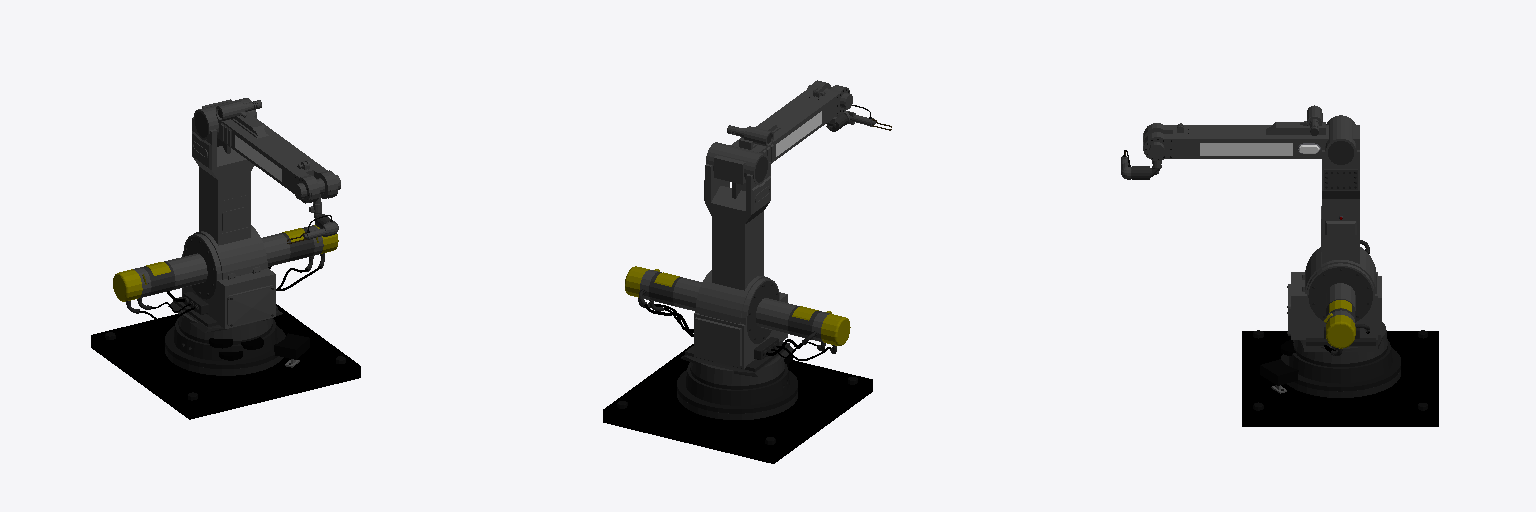
The model's file is robotArm.obj.
3 renders of one model, left to right at view 1: azimuth 30°, elevation 25°; view 2: azimuth 150°, elevation 25°; view 3: azimuth 270°, elevation 25°, orthographic.
Size of the model in its own units: 15.5 by 19.68 by 20.15.